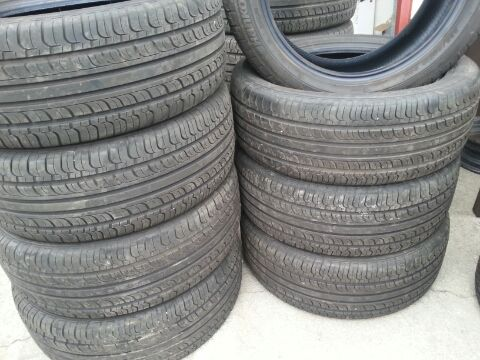middle_condition: (1, 2, 231, 139), (232, 73, 478, 179), (4, 124, 239, 221), (246, 174, 468, 252)
